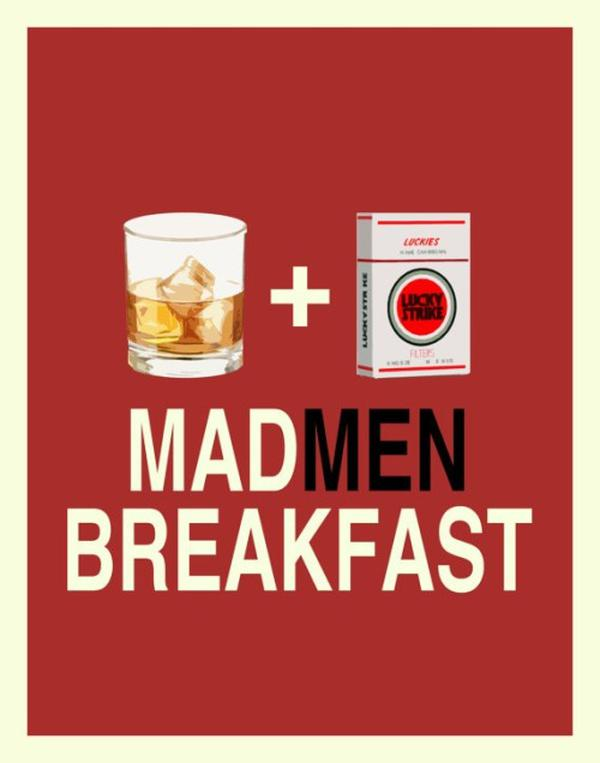lucky_strike_red: (375, 212, 471, 378)
